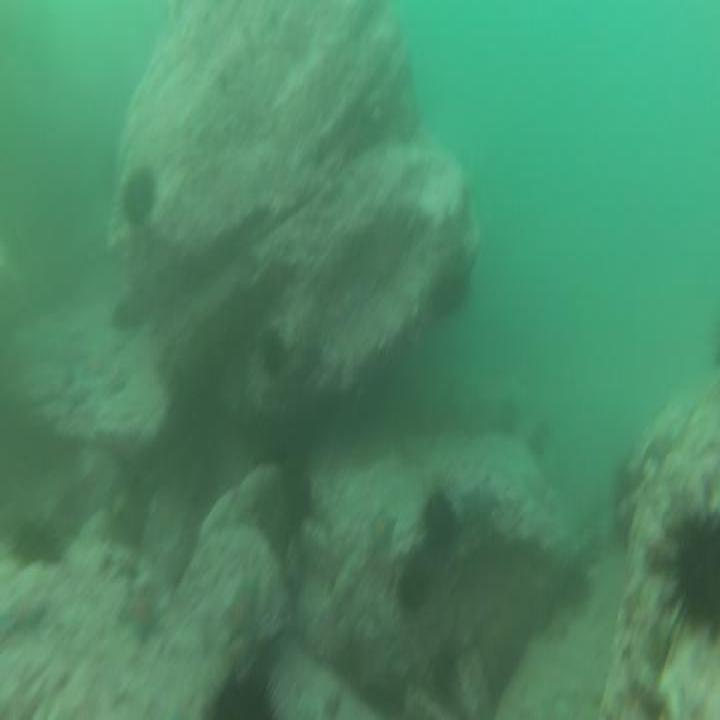echinus: (666, 503, 720, 645), (203, 670, 282, 720), (419, 485, 462, 556), (118, 160, 159, 229), (10, 517, 62, 569), (438, 260, 472, 326), (282, 468, 315, 535), (394, 553, 429, 615), (259, 325, 293, 384)
starfish: (114, 576, 173, 651), (221, 581, 264, 647), (366, 505, 399, 560)
